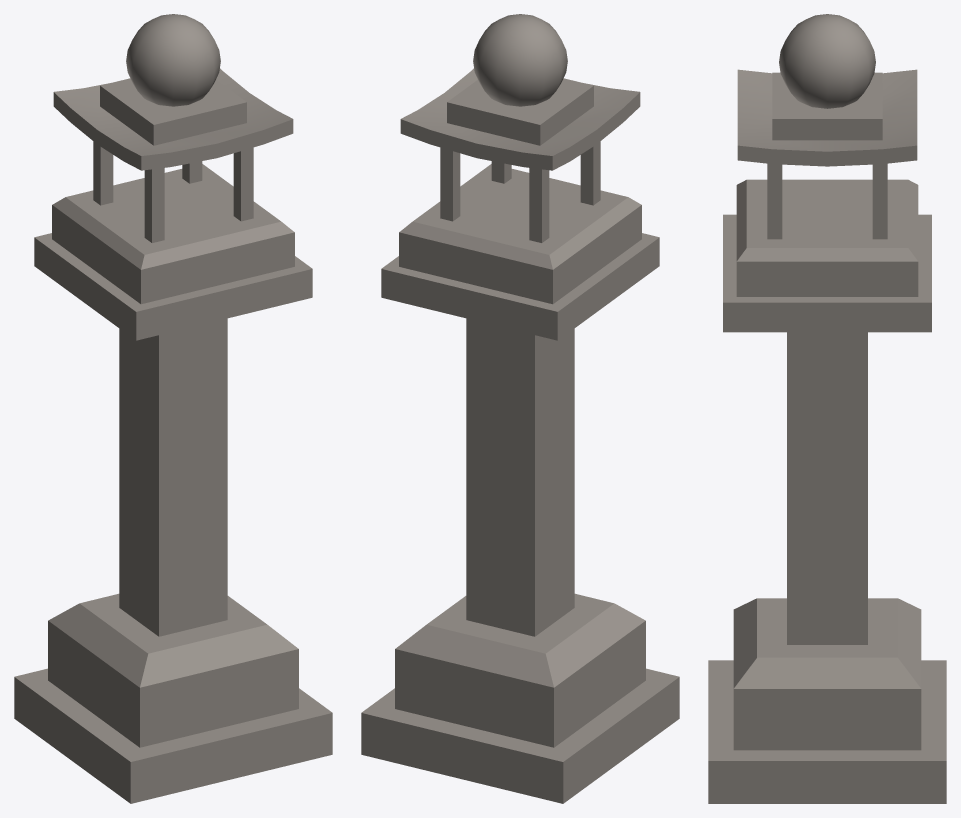
The model's file is Statue_1.fbx.
3 renders of one model, left to right at view 1: azimuth 30°, elevation 25°; view 2: azimuth 150°, elevation 25°; view 3: azimuth 270°, elevation 25°, orthographic. The views are drawn at different scales.
Visible parts, largest first — view 1: Statue_1; view 2: Statue_1; view 3: Statue_1.
Boxes of the visible parts, box(x1,y1,x2,y2) form: Statue_1: box(14, 14, 332, 803); Statue_1: box(361, 14, 679, 803); Statue_1: box(708, 14, 946, 803).
Bounding box in the file's own units: 77.26 × 263 × 77.26.
